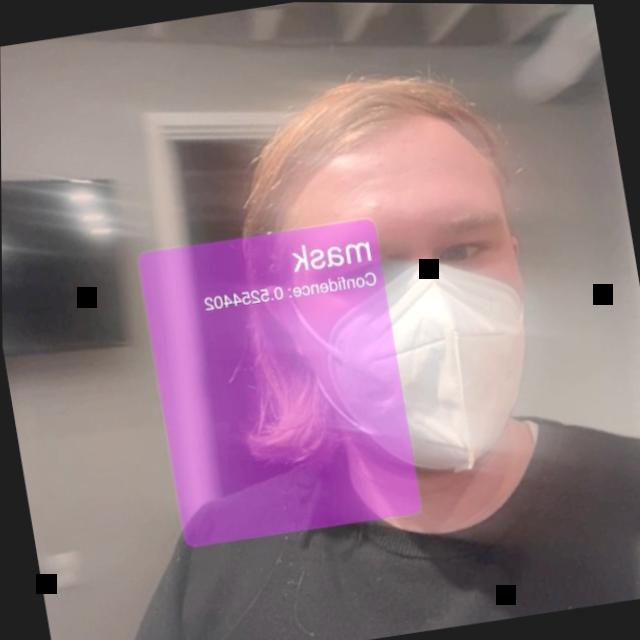Mask: (187, 56, 598, 575)
